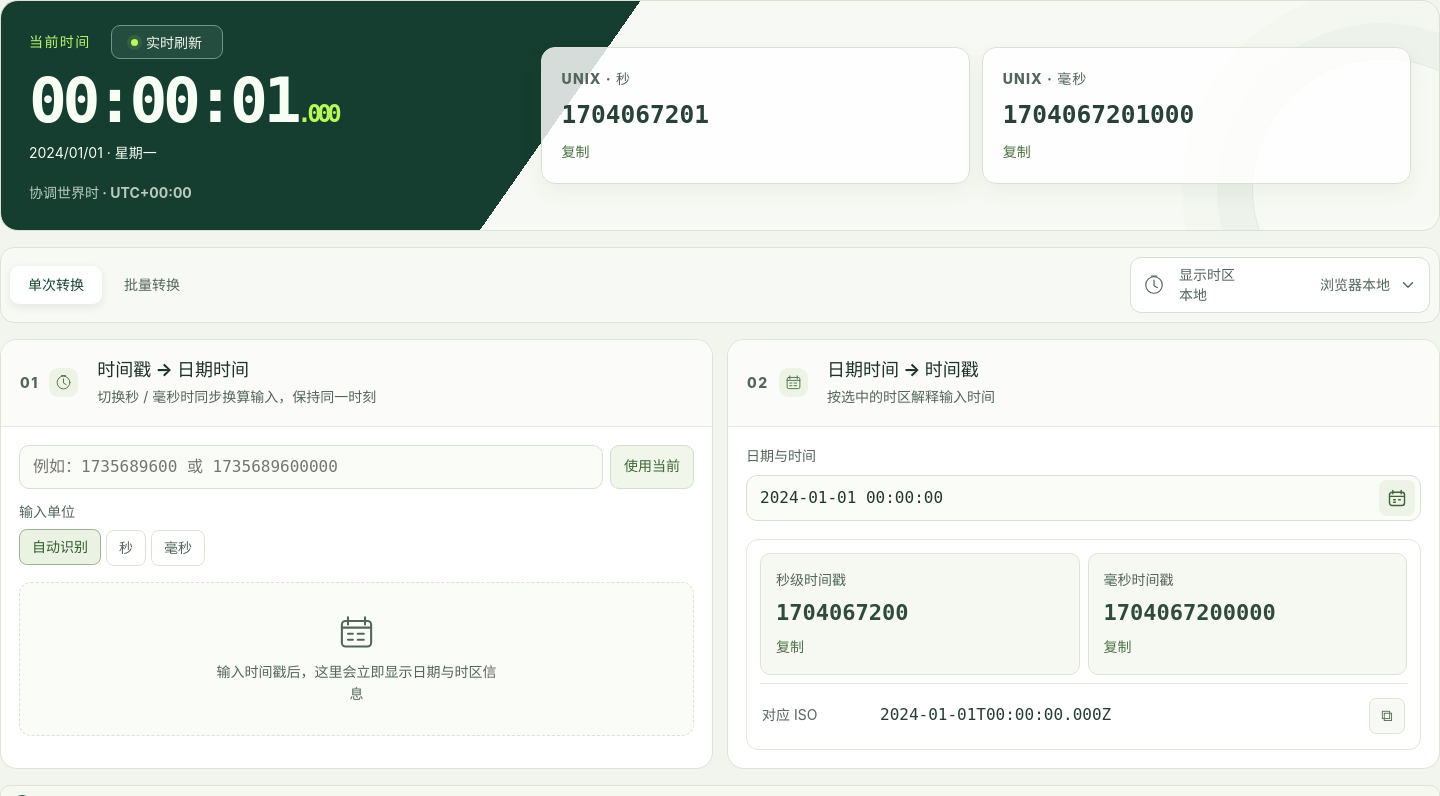
Test: TimestampTool › groups live refresh with the clock and preserves pause/resume behavior
The image size is (1440, 796).
Expected: the element "实时刷新" shows "当前时间", top-left (29, 33), bottom-right (91, 50)
Expected: the button "UNIX · 毫秒 1704067201000 复制" is shown, top-left (982, 47), bottom-right (1411, 184)
Click the button "实时刷新" at coordinates (167, 42), box top-left (111, 25), bottom-right (223, 59)
Wait 5000 ms
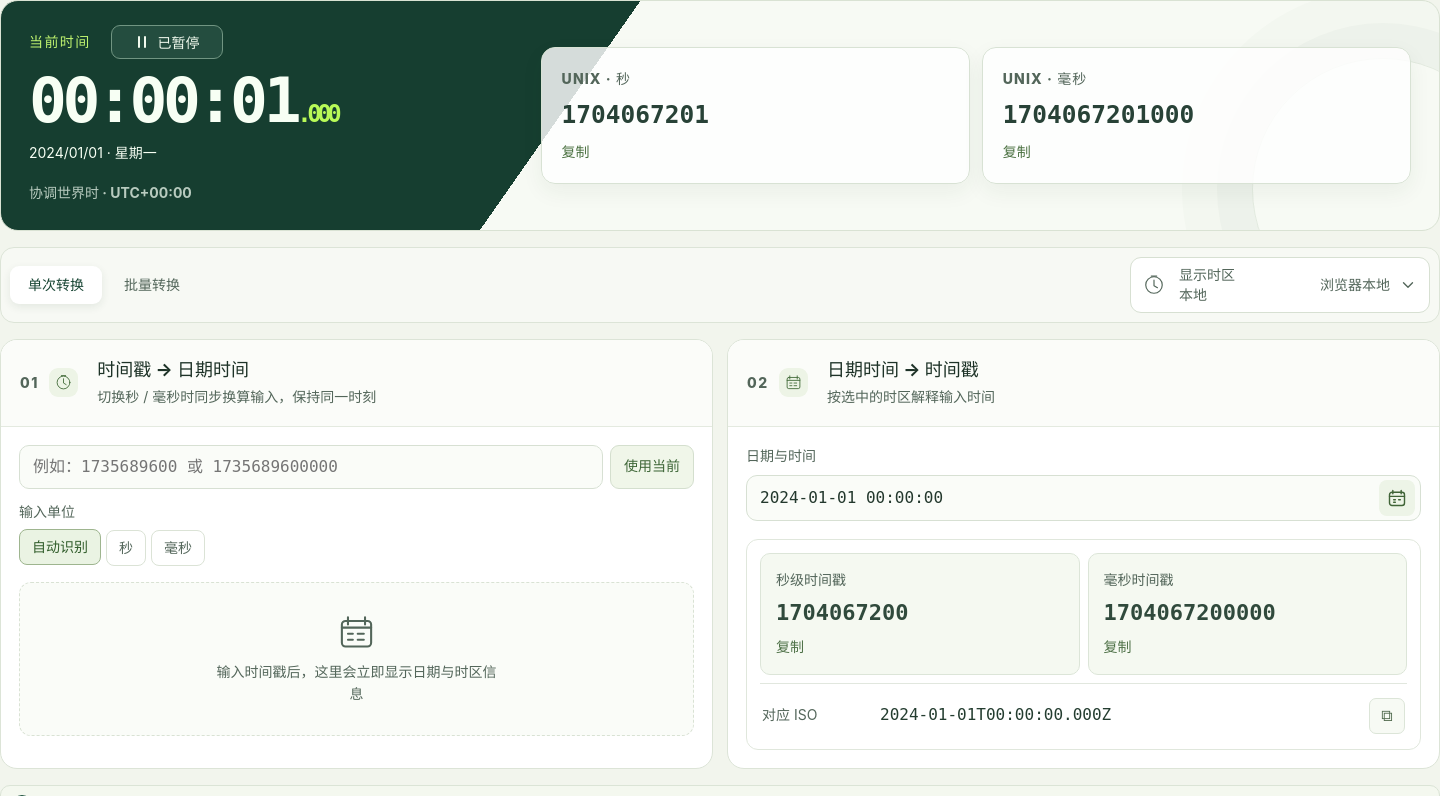
Expected: the button "UNIX · 毫秒 1704067201000 复制" is shown, top-left (982, 47), bottom-right (1411, 184)
Expected: the button named "实时刷新" reads "已暂停"
Click the button named "实时刷新" at coordinates (167, 42), box top-left (111, 25), bottom-right (223, 59)
Wait 250 ms
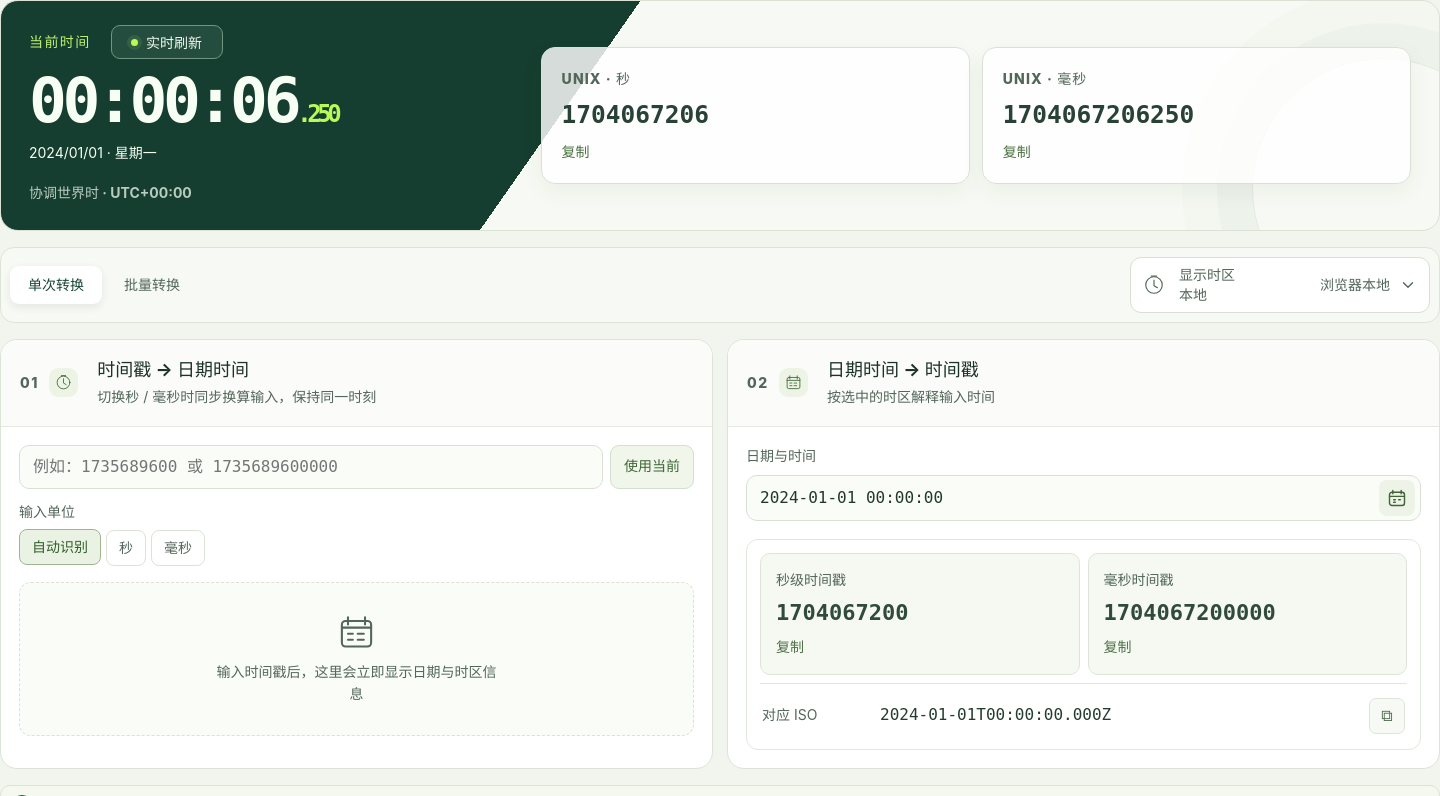
Expected: the button "UNIX · 毫秒 1704067206250 复制" is shown, top-left (982, 47), bottom-right (1411, 184)
